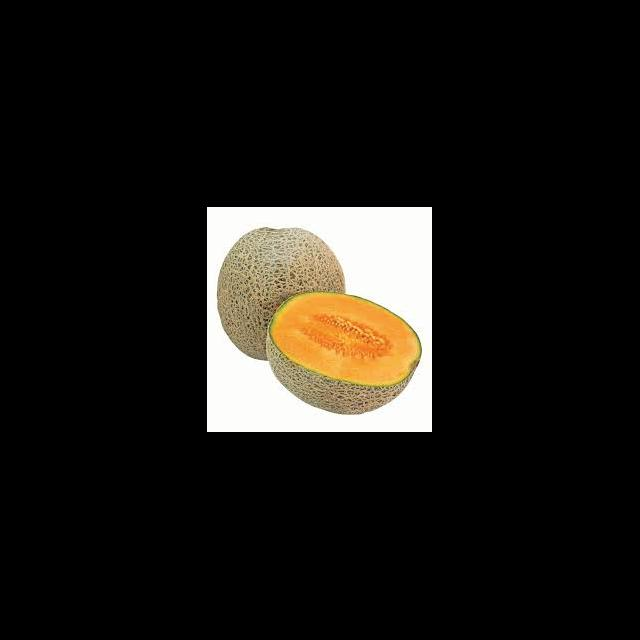Hami Melon: (266, 293, 423, 416), (217, 226, 346, 361)
